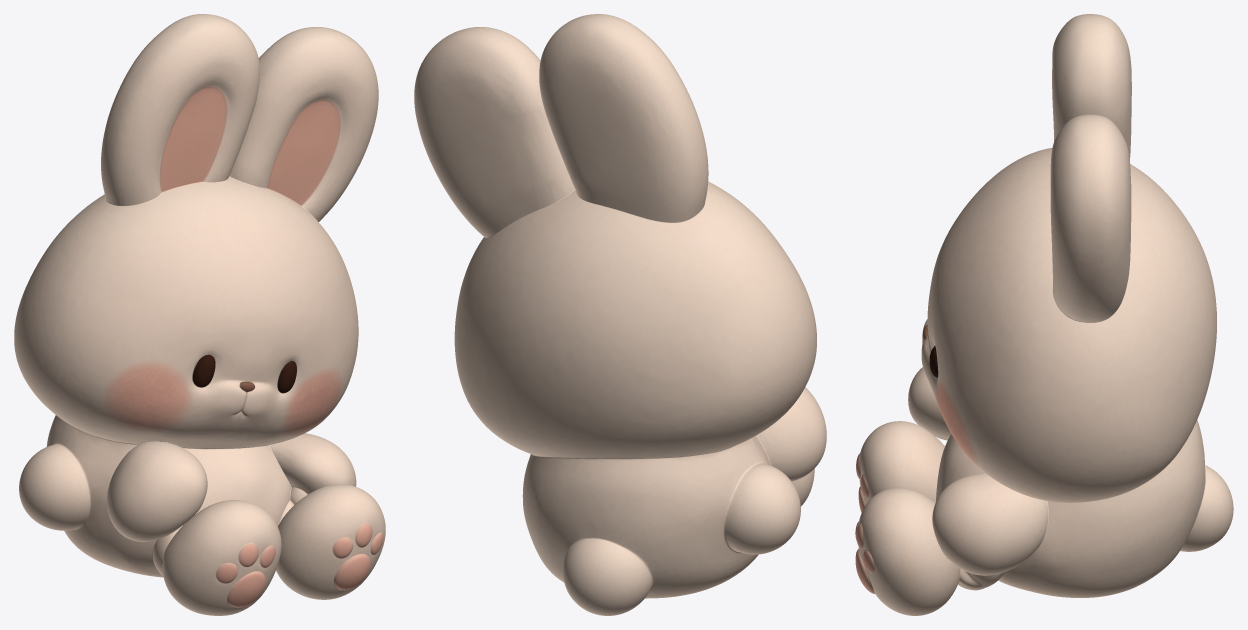
The model's file is mochi.glb.
The picture shows the model from 3 angles, left to right: view 1: azimuth 30°, elevation 25°; view 2: azimuth 150°, elevation 25°; view 3: azimuth 270°, elevation 25°; orthographic projection. The views are drawn at different scales.
Bounding box in the file's own units: 1.33 × 1.9 × 1.15.
1 material, 1 textured.
